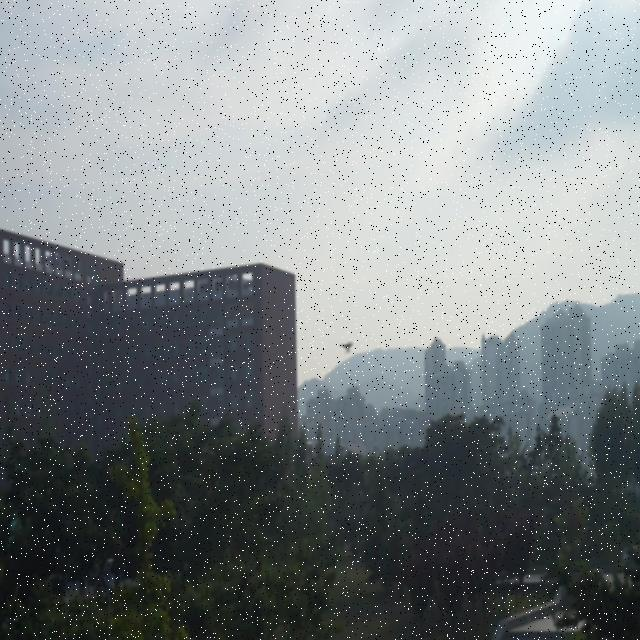UAV: (339, 341, 353, 354)
